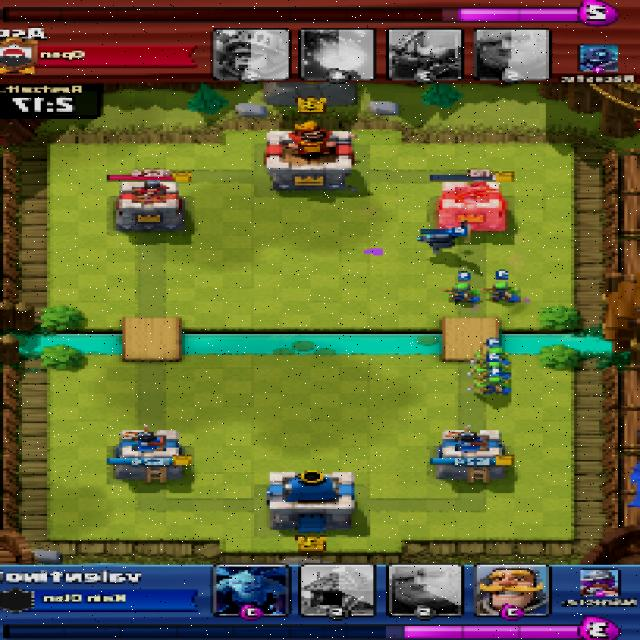Player-MiniPEKKA: (417, 232, 462, 252)
Player-SpearGoblin: (474, 374, 513, 394), (483, 282, 521, 302), (446, 284, 479, 302), (479, 362, 509, 379), (482, 345, 508, 361)
